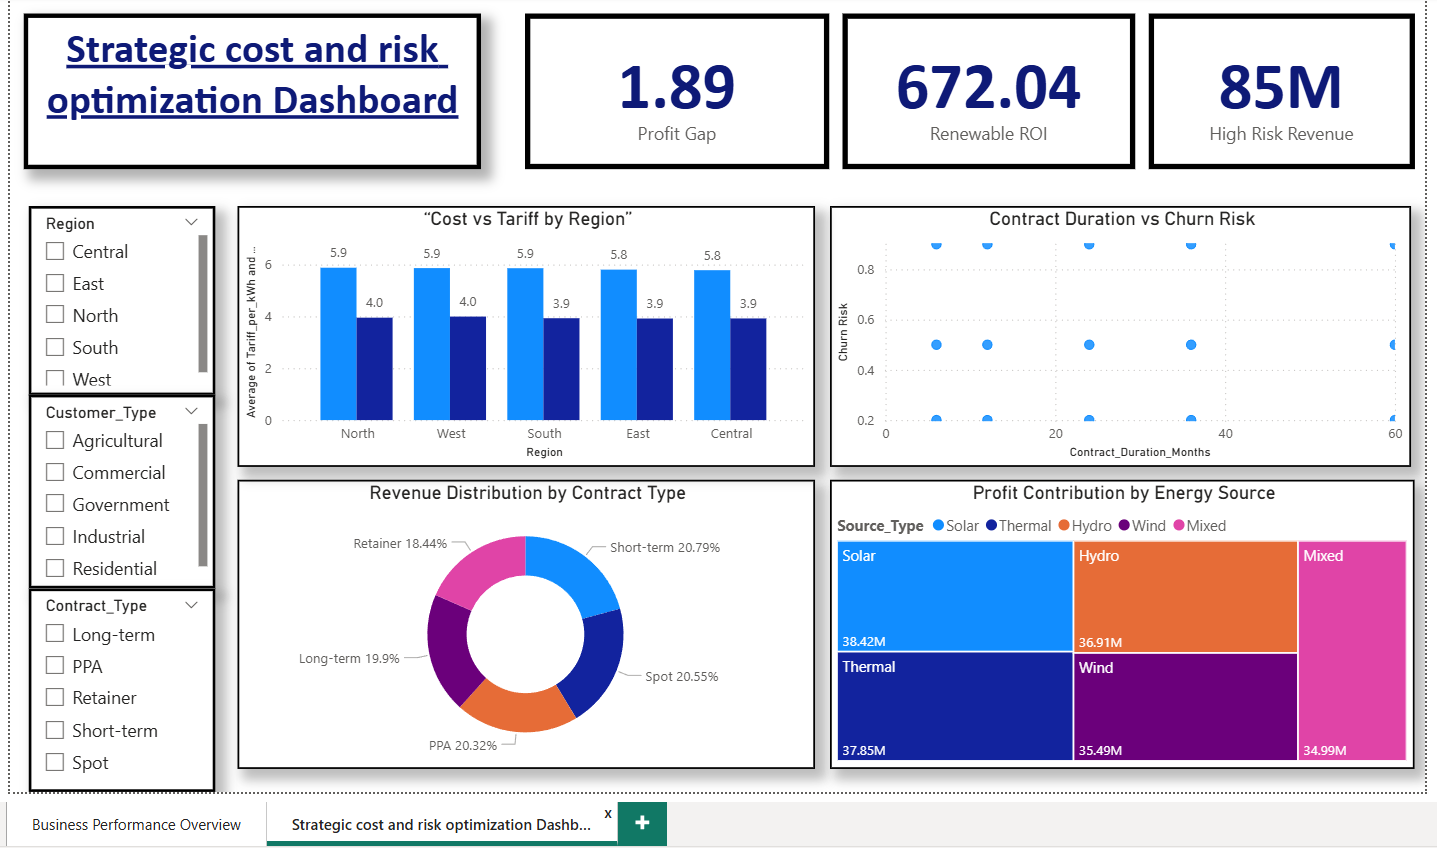

This screenshot's page, from the dashboard's own definition file:
{"tool":"powerbi","page":{"name":"Strategic cost and risk optimization Dashboard","canvas":[1280,720],"ordinal":1},"visuals":[{"type":"scatterChart","title":"Contract Duration vs Churn Risk","fields":{"X":["Commercial_Data (2).Contract_Duration_Months"],"Y":["Commercial_Data (2).Churn_Risk_Num"]},"box":[741.9,189.5,525.6,236],"z":0},{"type":"donutChart","title":"Revenue Distribution by Contract Type","fields":{"Category":["Commercial_Data (2).Contract_Type"],"Y":["Sum(Commercial_Data (2).Revenue_INR)"]},"box":[205.8,437.2,522.1,261.6],"z":1000},{"type":"treemap","title":"Profit Contribution by Energy Source","fields":{"Group":["Commercial_Data (2).Source_Type"],"Values":["Sum(Commercial_Data (2).Gross_Profit_INR)"]},"box":[741.9,437.2,529.1,261.6],"z":2000},{"type":"textbox","box":[12.8,16.3,414,140.7],"z":3000},{"type":"card","fields":{"Values":["Measure table.Profit Gap"]},"box":[466.3,16.3,275.6,140.7],"z":4000},{"type":"card","fields":{"Values":["Measure table.Renewable ROI"]},"box":[753.5,16.3,265.1,140.7],"z":5000},{"type":"clusteredColumnChart","title":"“Cost vs Tariff by Region”","fields":{"Category":["Commercial_Data (2).Region"],"Y":["Avg(Commercial_Data (2).Tariff_per_kWh)","Avg(Commercial_Data (2).Cost_per_kWh)"]},"box":[205.8,189.5,522.1,236],"z":6000},{"type":"slicer","fields":{"Values":["Commercial_Data (2).Region"]},"box":[17.4,189.5,168.6,170.9],"z":7000},{"type":"slicer","fields":{"Values":["Commercial_Data (2).Customer_Type"]},"box":[17.4,360.5,168.6,175.6],"z":8000},{"type":"slicer","fields":{"Values":["Commercial_Data (2).Contract_Type"]},"box":[17.4,536,168.6,183.7],"z":9000},{"type":"card","fields":{"Values":["Measure table.High Risk Revenue"]},"box":[1030.2,16.3,240.7,140.7],"z":10000}]}

Visuals, with their boxes in screenshot pixels (x1, y1, x2, y2):
"Contract Duration vs Churn Risk" scatterChart: [825, 202, 1407, 464]
"Revenue Distribution by Contract Type" donutChart: [232, 477, 810, 766]
"Profit Contribution by Energy Source" treemap: [825, 477, 1411, 766]
textbox: [18, 11, 476, 166]
card - Measure table.Profit Gap: [520, 11, 825, 166]
card - Measure table.Renewable ROI: [838, 11, 1131, 166]
"“Cost vs Tariff by Region”" clusteredColumnChart: [232, 202, 810, 464]
slicer - Commercial_Data (2).Region: [23, 202, 210, 392]
slicer - Commercial_Data (2).Customer_Type: [23, 392, 210, 586]
slicer - Commercial_Data (2).Contract_Type: [23, 586, 210, 789]
card - Measure table.High Risk Revenue: [1144, 11, 1411, 166]
